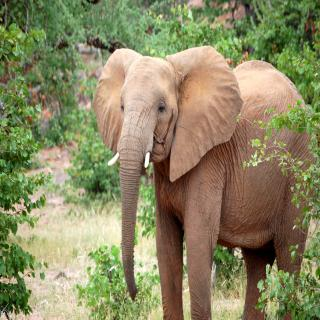Elephant: (91, 40, 316, 320)
